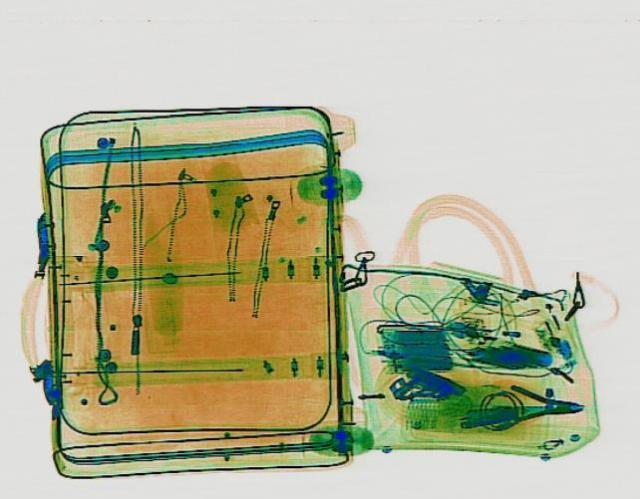Pliers: (506, 383, 584, 426)
